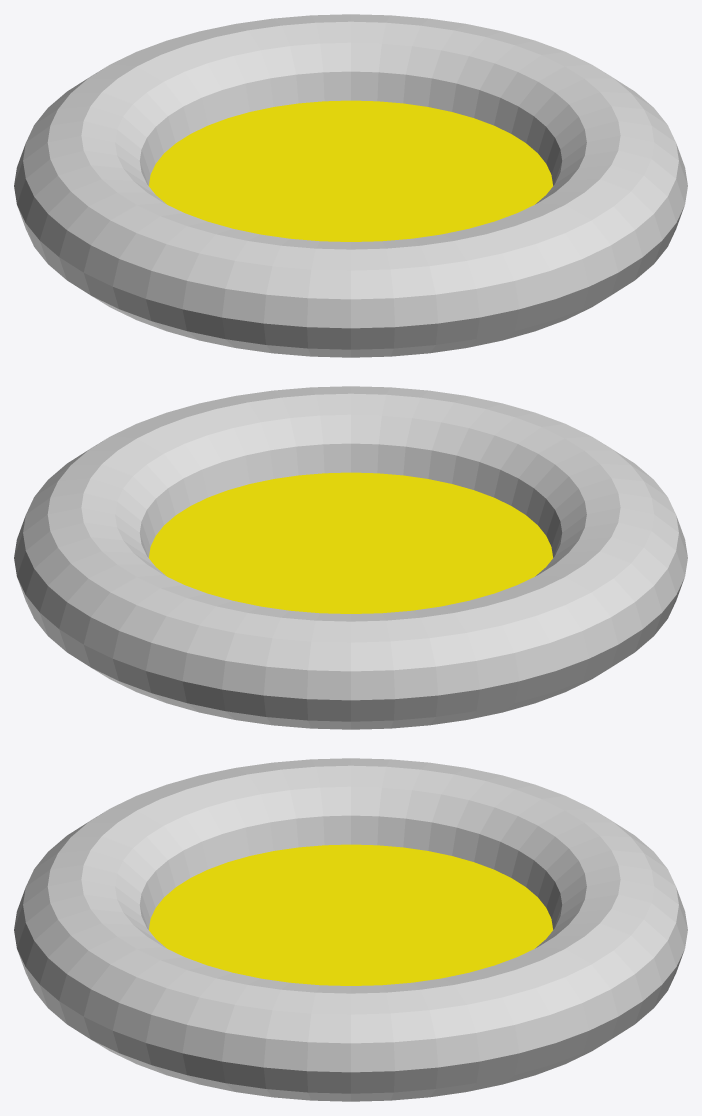
Rendered from YellowGunPlatform.fbx.
3 views of the same model, one above another, from view 1: azimuth 30°, elevation 25°; view 2: azimuth 150°, elevation 25°; view 3: azimuth 270°, elevation 25° (orthographic).
Parts seen in each view (by area): view 1: Torus, Plane; view 2: Torus, Plane; view 3: Torus, Plane.
Boxes of the visible parts, x1=… form: Torus: x1=14, y1=14, x2=687, y2=357; Plane: x1=149, y1=100, x2=552, y2=241; Torus: x1=14, y1=386, x2=687, y2=729; Plane: x1=149, y1=472, x2=552, y2=613; Torus: x1=14, y1=758, x2=687, y2=1101; Plane: x1=149, y1=844, x2=552, y2=985.
Size of the model in its own units: 250 by 41.18 by 250.
